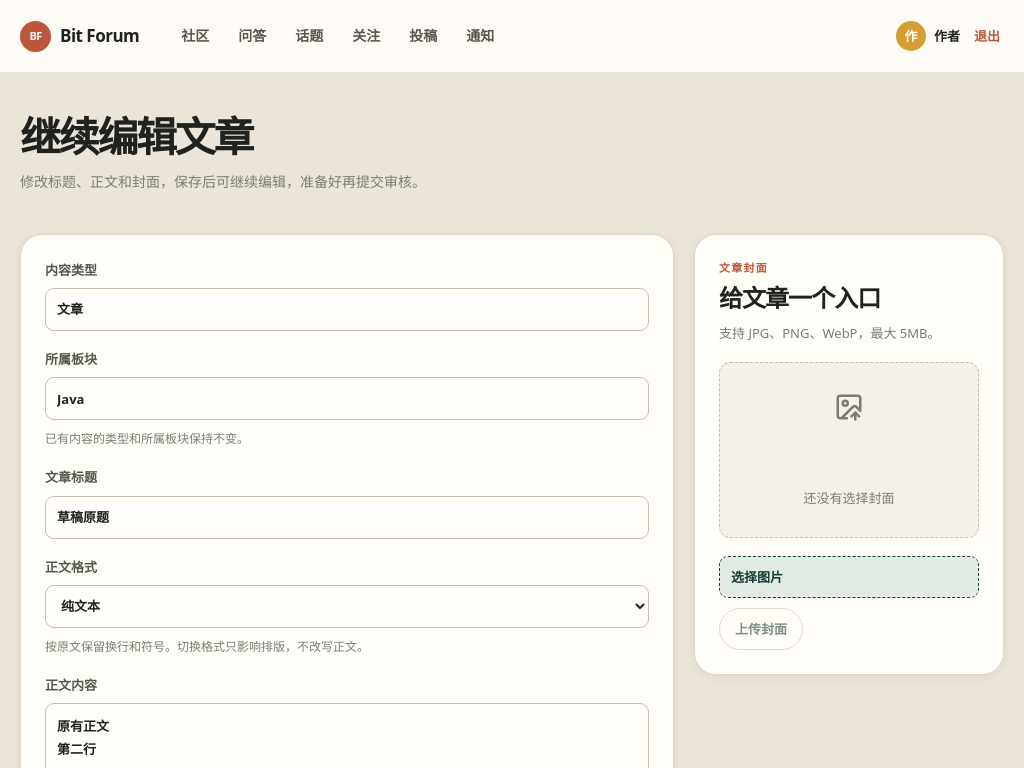
Test: 作者草稿编辑闭环（与实际 App 路由组合） › 直接打开 DRAFT 内容并保存标题正文，元数据保持只读
Replace the text in the field labelled "文章标题" with "新标题" at (347, 517), box [45,496,649,539]
(page scrolled)
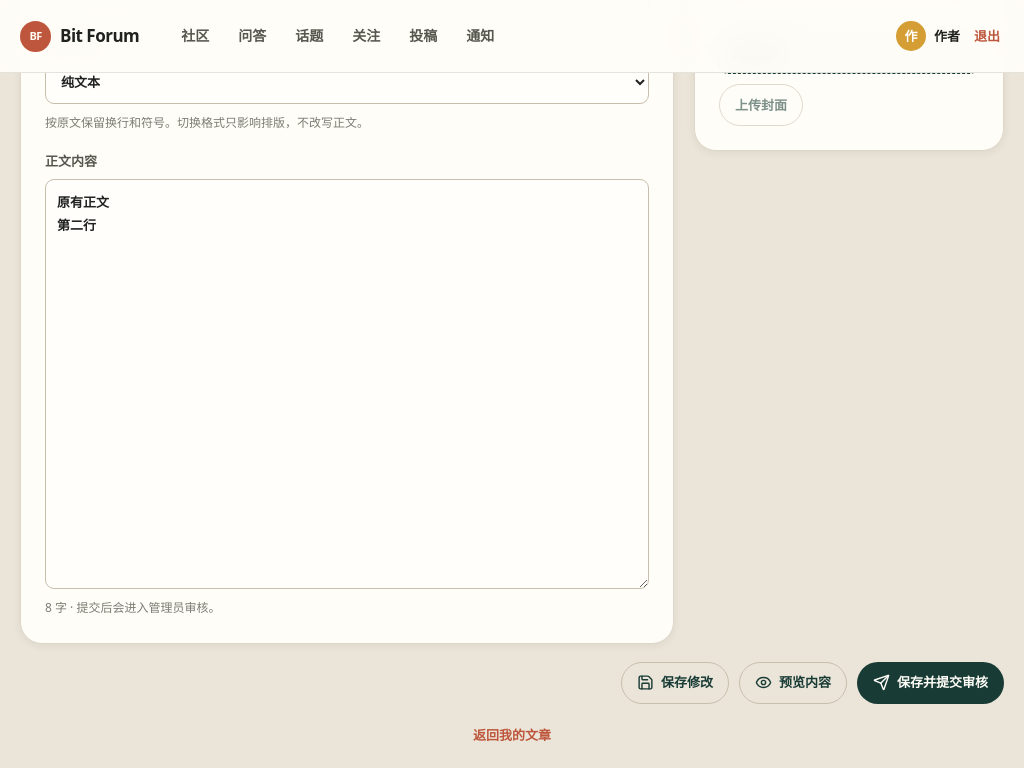
Replace the text in the text box labelled "正文内容" with "更新正文" at (347, 384), box [45,179,649,589]
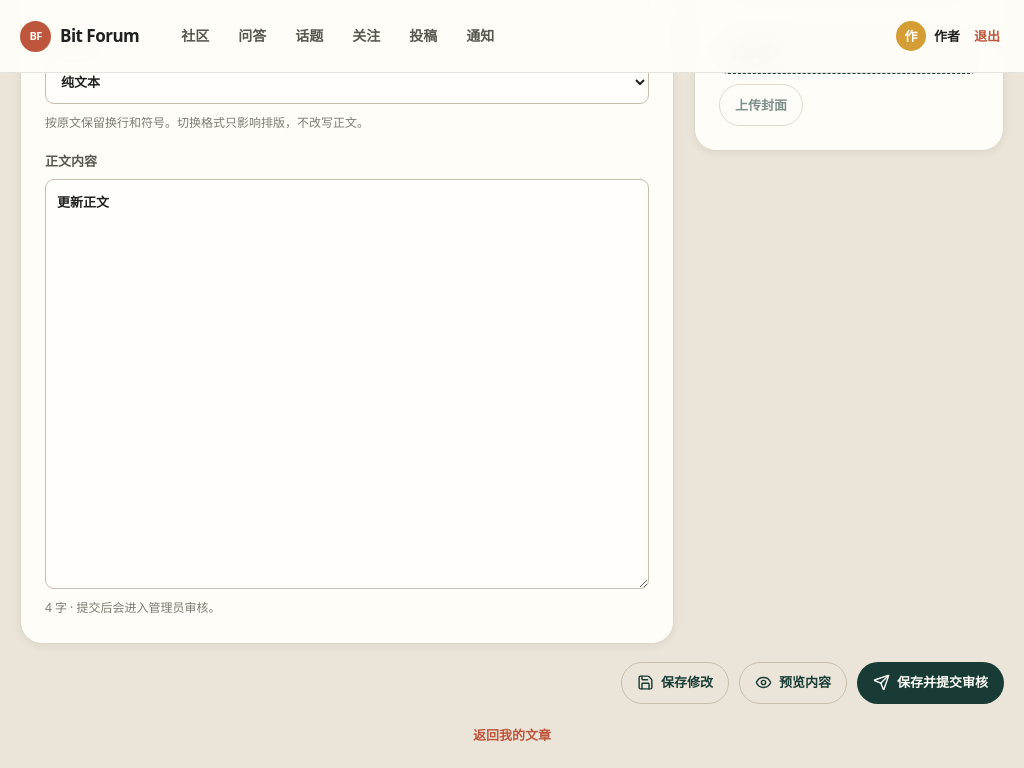
Click the button "保存修改".
click(675, 682)  # box [621,662,729,704]
(page scrolled)
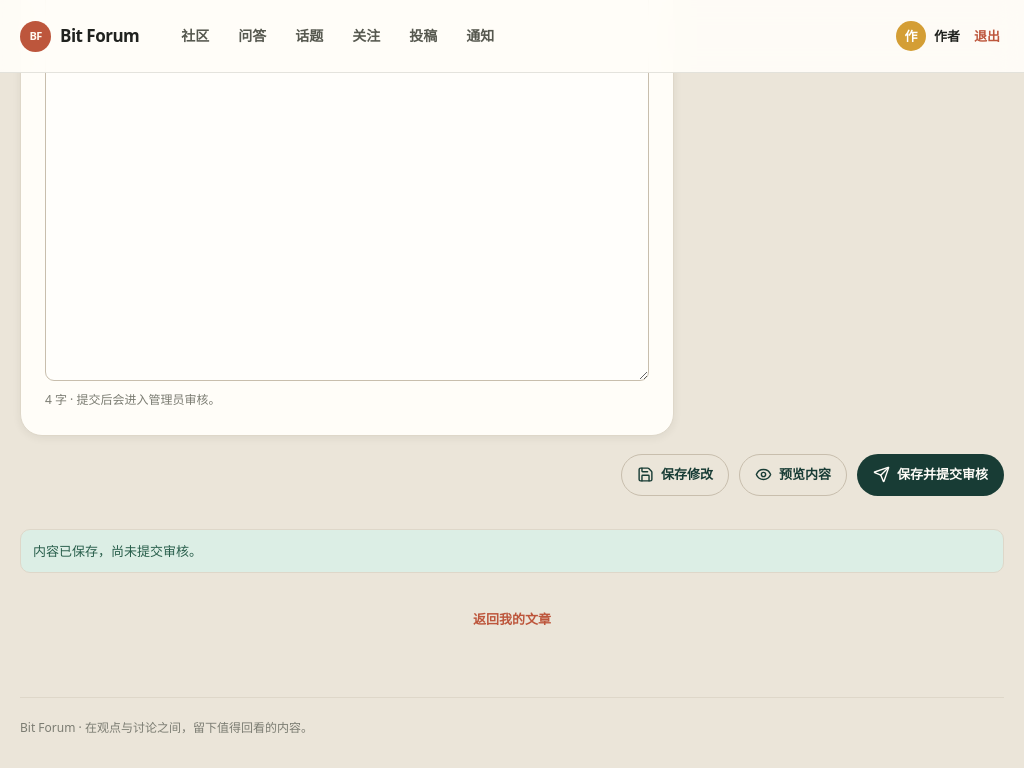
expect the text "内容已保存，尚未提交审核。" is shown: met, box [20,528,1004,573]
